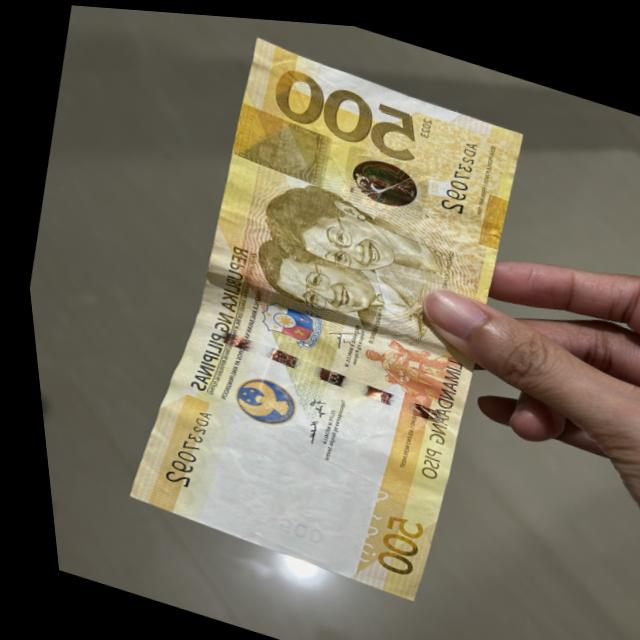concealed_value: (230, 106, 324, 177)
optically_variable_device: (338, 143, 431, 210)
security_thread: (207, 325, 441, 415)
see_through_mark: (327, 469, 386, 561)
value: (268, 63, 422, 155)
value_watermark: (256, 505, 316, 544)
